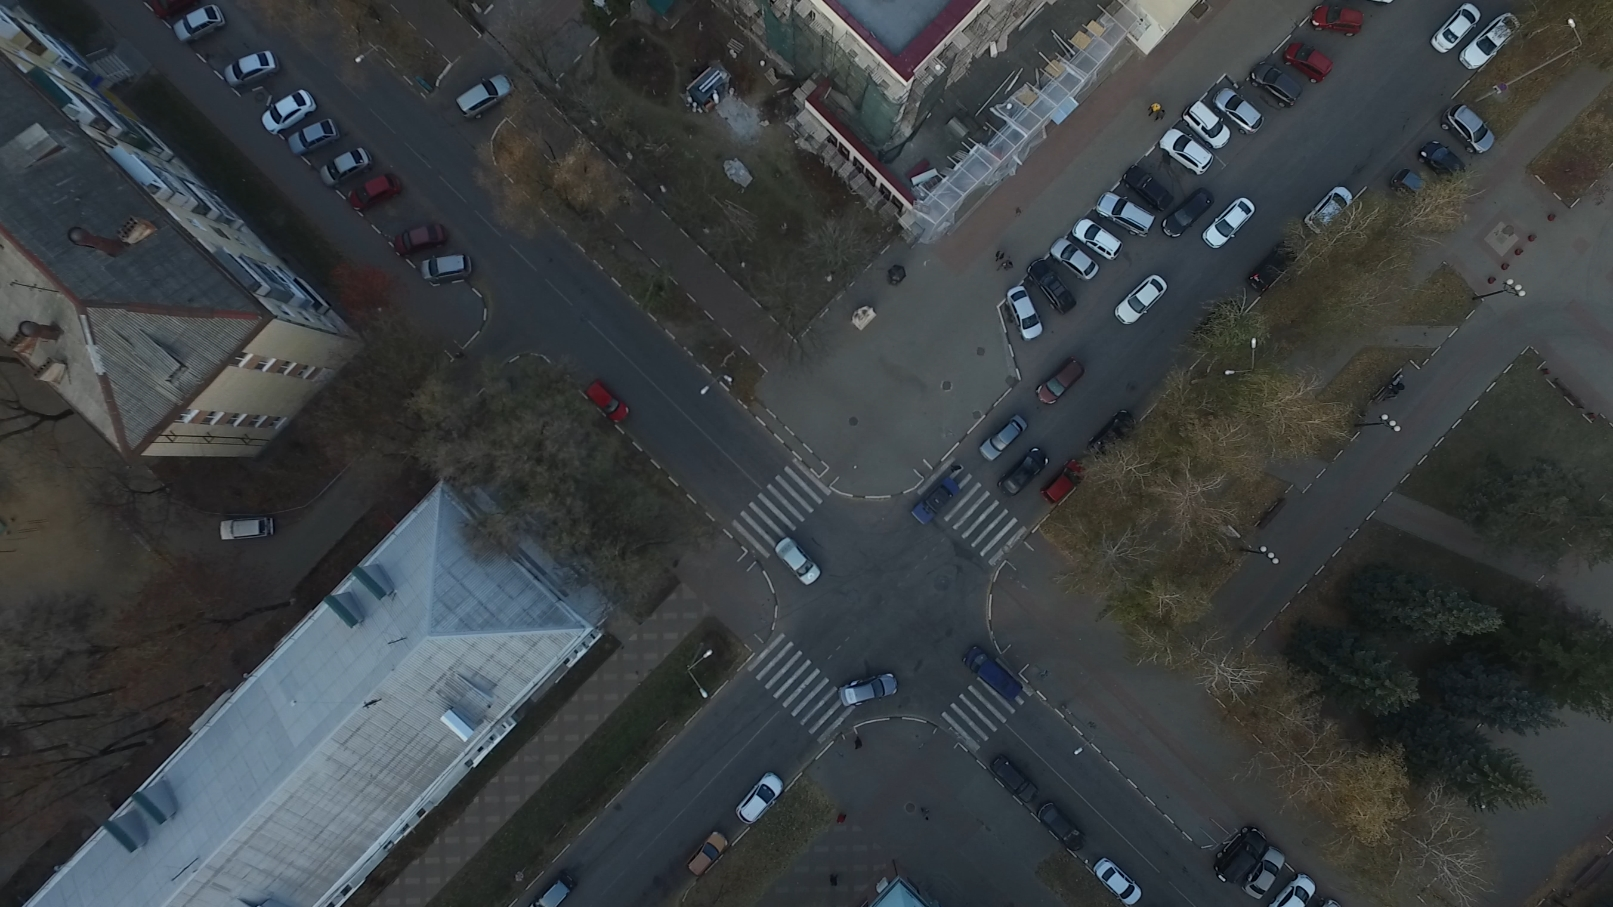car: (1459, 6, 1522, 73), (960, 643, 1025, 707), (1199, 194, 1258, 251), (1162, 186, 1219, 246), (525, 854, 587, 907), (452, 72, 518, 121), (1440, 100, 1494, 158), (1111, 274, 1173, 324), (1095, 189, 1155, 240), (1214, 87, 1268, 143), (1160, 124, 1218, 176), (734, 770, 784, 829), (1251, 245, 1299, 306), (260, 89, 322, 136), (1212, 829, 1266, 883), (908, 477, 963, 530), (1306, 186, 1357, 243), (1083, 859, 1145, 905), (993, 450, 1042, 506), (1430, 1, 1482, 54), (1026, 261, 1076, 316), (1032, 800, 1080, 856), (1086, 412, 1137, 464), (1239, 847, 1287, 901), (1419, 140, 1468, 194), (345, 174, 410, 214), (1118, 165, 1169, 216), (1182, 105, 1234, 155), (1048, 236, 1101, 284), (986, 754, 1032, 808), (315, 146, 374, 188), (831, 672, 895, 711), (771, 539, 820, 590), (977, 418, 1026, 468), (219, 48, 285, 85), (1395, 165, 1438, 220), (1001, 286, 1044, 342), (1282, 43, 1338, 85), (1251, 66, 1301, 113), (1036, 362, 1087, 408), (582, 373, 627, 422), (284, 117, 340, 155), (1040, 458, 1083, 507), (687, 829, 729, 879), (1073, 215, 1120, 259), (173, 7, 227, 43), (393, 223, 451, 256), (1307, 1, 1359, 34), (215, 514, 271, 543), (421, 250, 475, 277)
